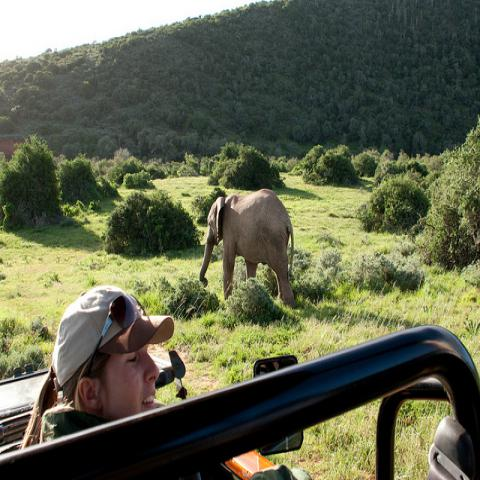car: (3, 322, 479, 479)
